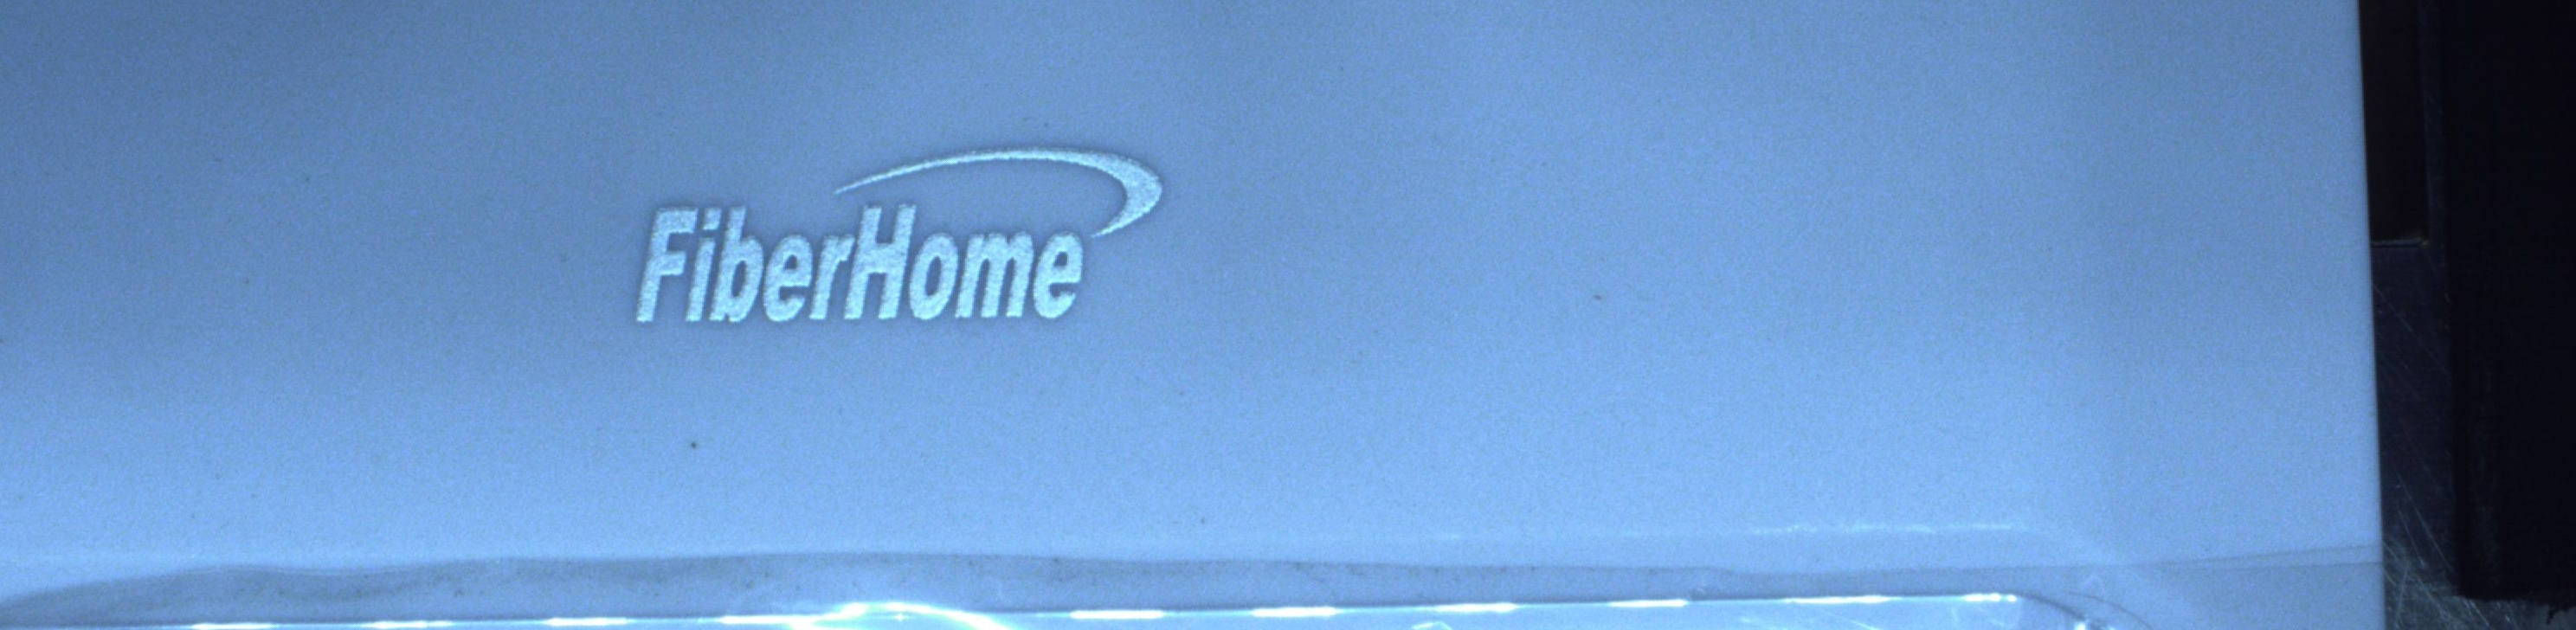AI_FiberHome: (593, 113, 1188, 340)
